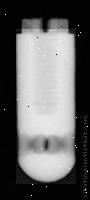Zimmer: (16, 29, 76, 184)
